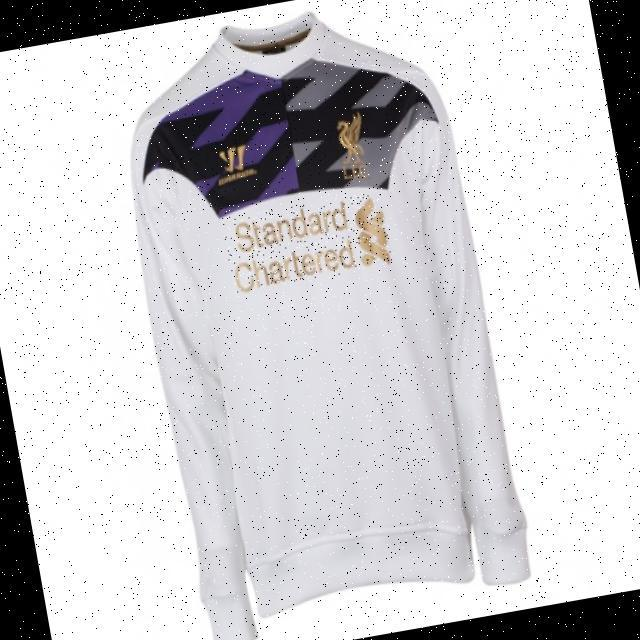Standard Chartered: (221, 190, 392, 293)
